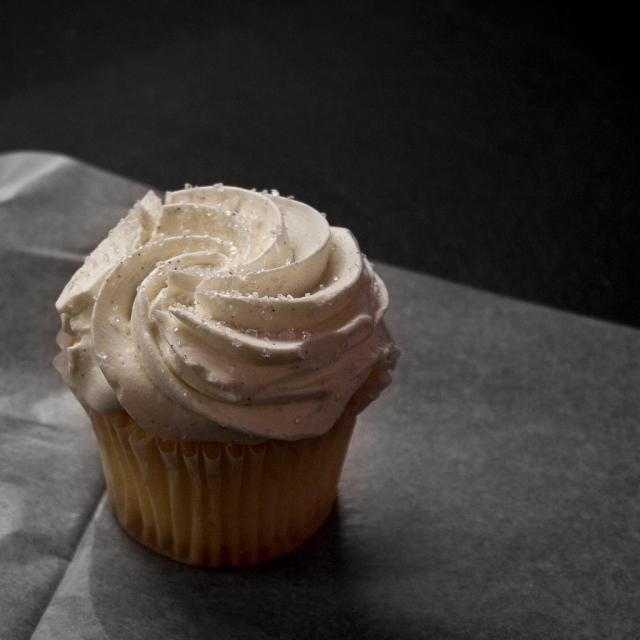Muffin: (51, 183, 398, 561)
